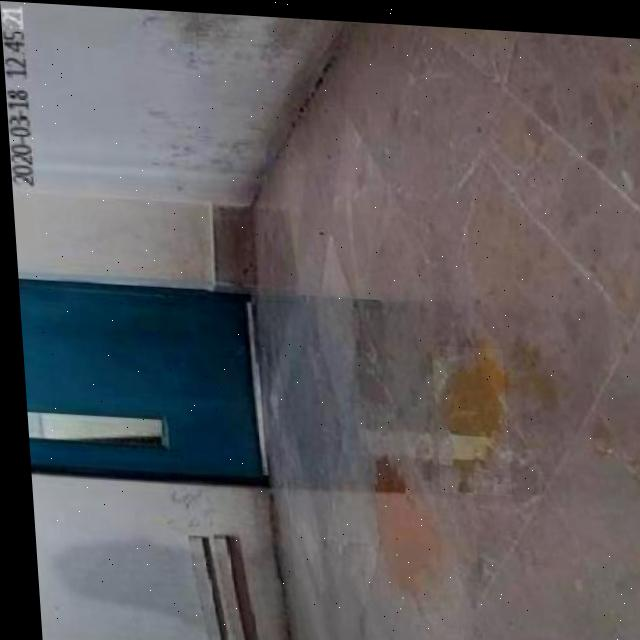spillage: (430, 342, 499, 486), (370, 452, 423, 606)
